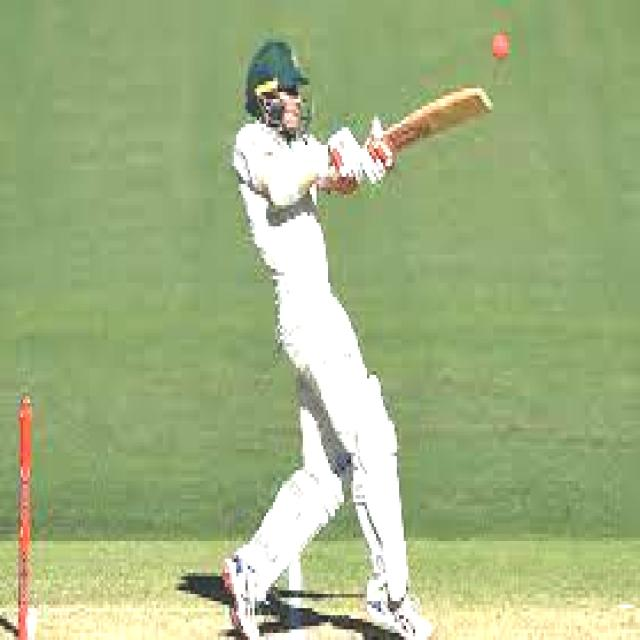toe: (472, 89, 496, 118)
